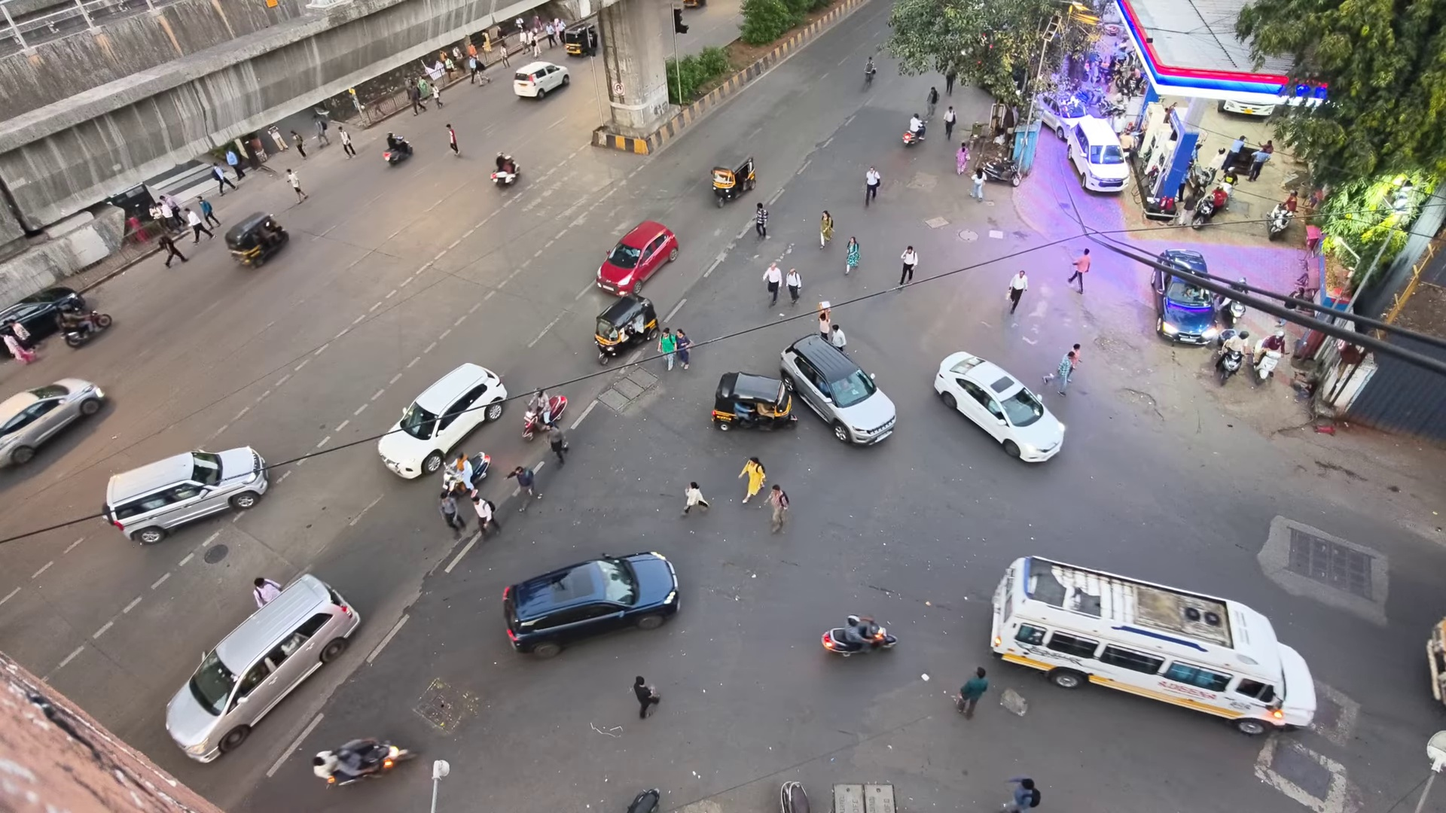walking: (1044, 345, 1078, 394), (957, 667, 987, 718), (0, 322, 36, 364), (439, 491, 465, 537), (1005, 778, 1040, 812), (739, 457, 765, 502), (1066, 248, 1091, 294), (633, 676, 660, 718), (472, 495, 500, 535), (508, 466, 541, 498), (158, 231, 187, 267), (768, 484, 789, 533), (185, 208, 213, 244), (1248, 141, 1272, 181), (762, 261, 782, 303), (253, 577, 281, 607), (657, 327, 676, 371), (1008, 269, 1027, 313), (683, 482, 709, 513), (548, 426, 568, 466), (285, 169, 308, 202), (212, 163, 236, 194), (898, 246, 917, 285), (1223, 136, 1246, 168), (197, 196, 221, 226), (675, 329, 691, 369), (865, 166, 880, 206), (338, 123, 355, 158), (785, 268, 801, 304), (407, 84, 426, 114), (846, 236, 860, 275), (226, 149, 243, 179), (820, 211, 834, 247), (971, 167, 985, 202), (290, 129, 306, 159), (828, 324, 846, 350), (755, 202, 767, 238), (446, 123, 459, 156), (417, 77, 430, 110), (956, 142, 969, 175), (315, 117, 329, 147), (944, 105, 956, 139), (818, 309, 831, 340), (926, 87, 938, 120), (545, 22, 557, 48), (432, 84, 444, 110), (945, 70, 956, 95)
